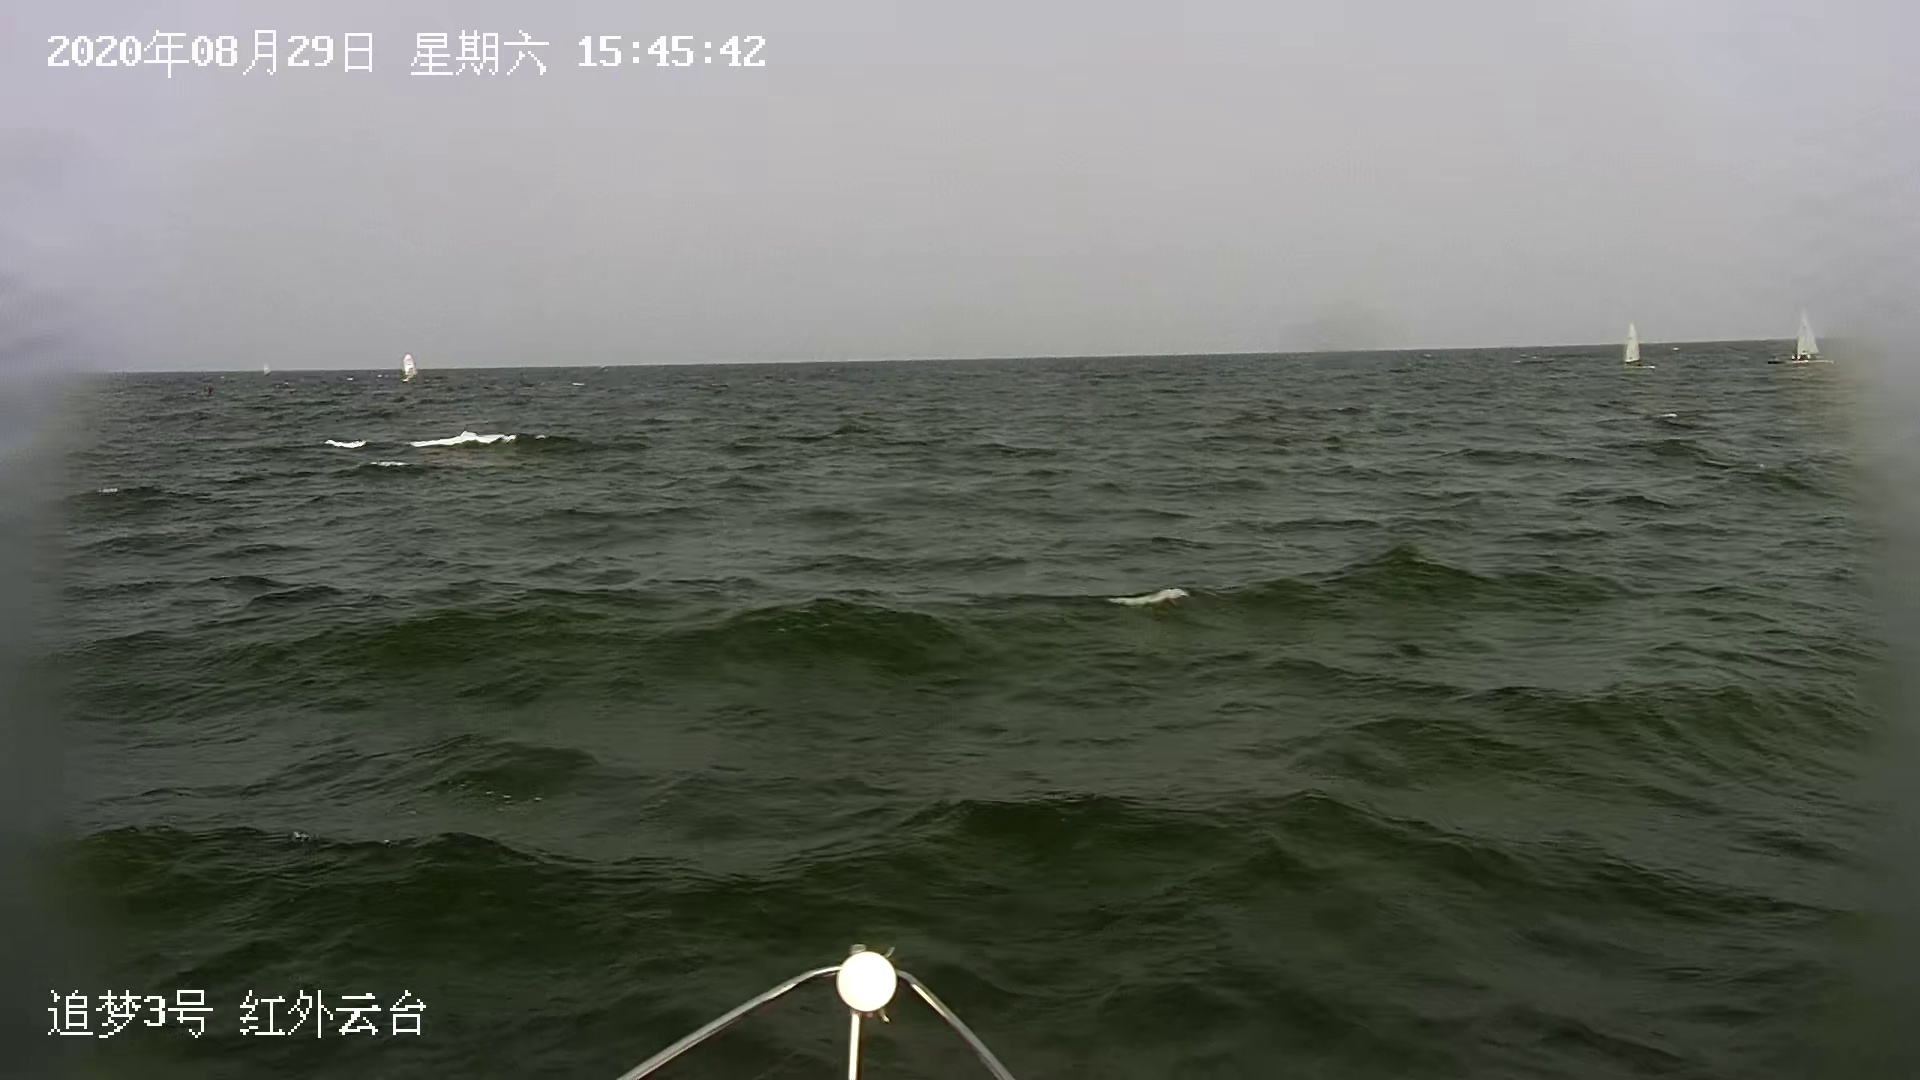barrier: (1782, 313, 1829, 367), (1619, 322, 1644, 375), (396, 349, 423, 384)
